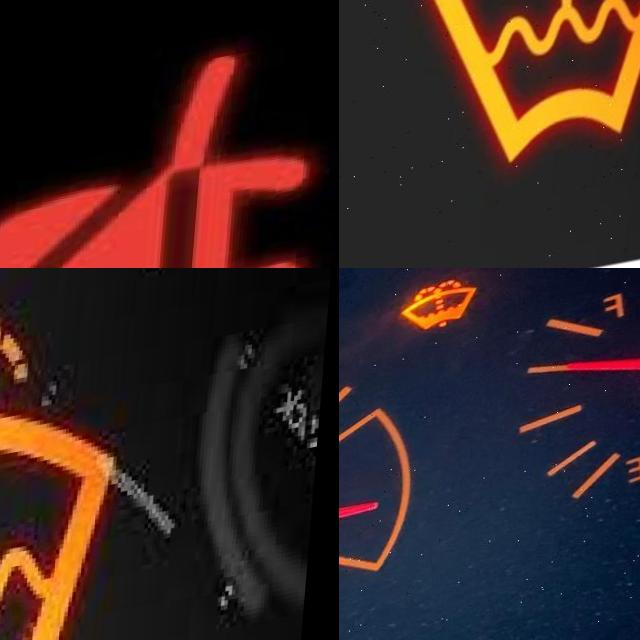Seat Belt: (0, 55, 328, 268)
Washer Fluid: (0, 317, 128, 640), (404, 287, 481, 346)
